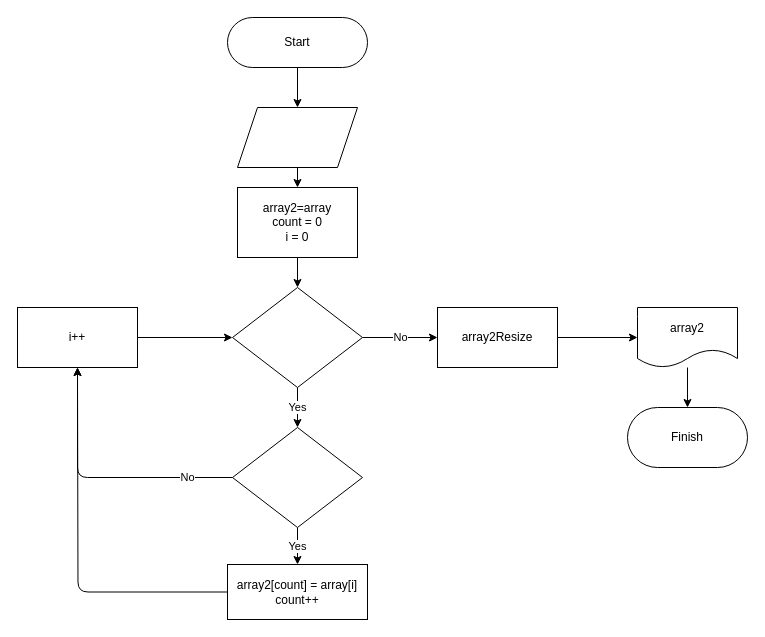
This 765x637 diagram has some shape labels left out. The shapes that lost their labels are listed below. From the top down, each one's centre as x and y in pixels, then its label:
the point at 297,137: array
the point at 297,337: array.Lenght > i
the point at 297,477: array[i].Lenght <= 3
